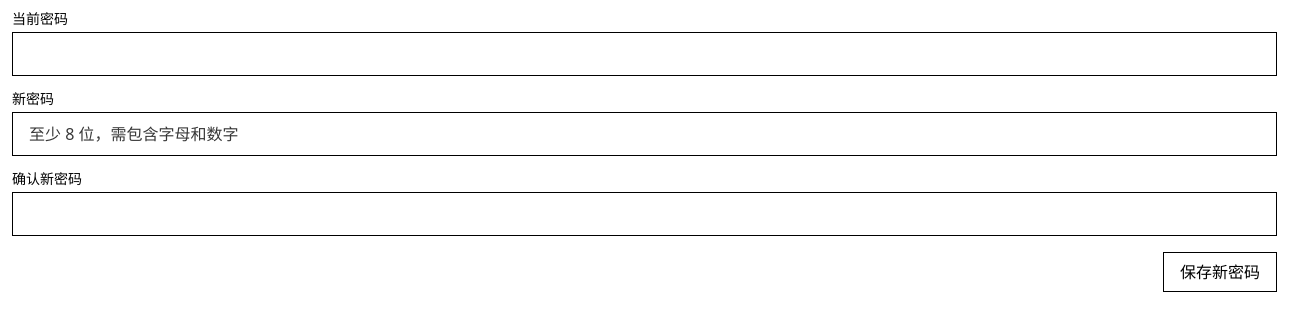
ChangePasswordForm › 两次新密码不一致时不提交
Type "OldPass123" into the password field with id "old-password" at [644, 54], box x1=12 y1=32 x2=1277 y2=76
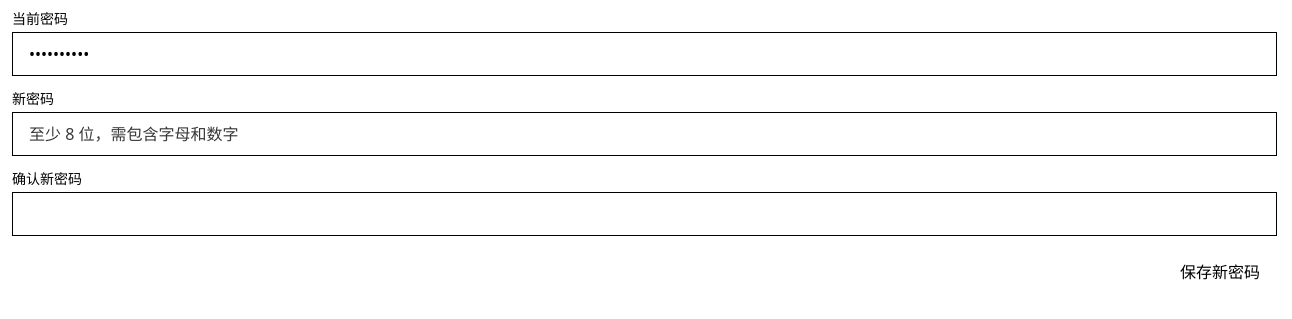
Type "NewPass456" into the password field with id "new-password" at [644, 134], box x1=12 y1=112 x2=1277 y2=156
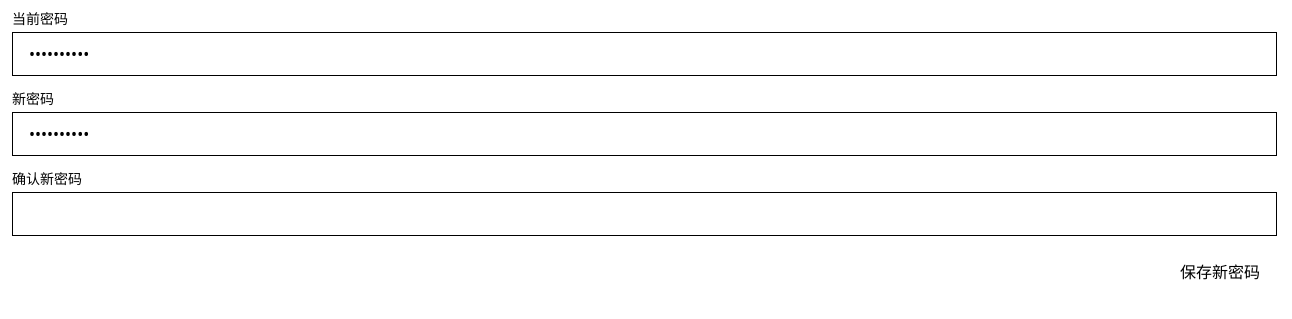
Type "Wrong456" into the password field with id "confirm-password" at [644, 214], box x1=12 y1=192 x2=1277 y2=236
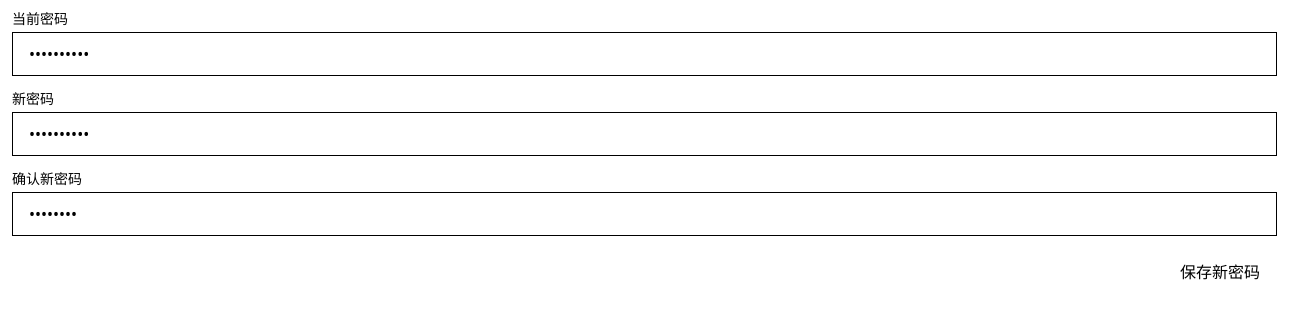
Click the button "保存新密码" at [1220, 272], box x1=1163 y1=252 x2=1277 y2=292
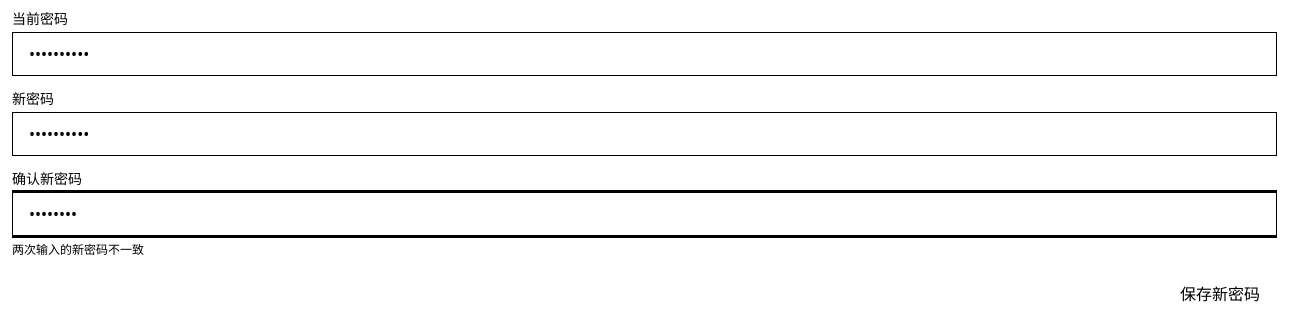
Expected: the text "两次输入的新密码不一致" is shown, x1=12 y1=241 x2=144 y2=258
